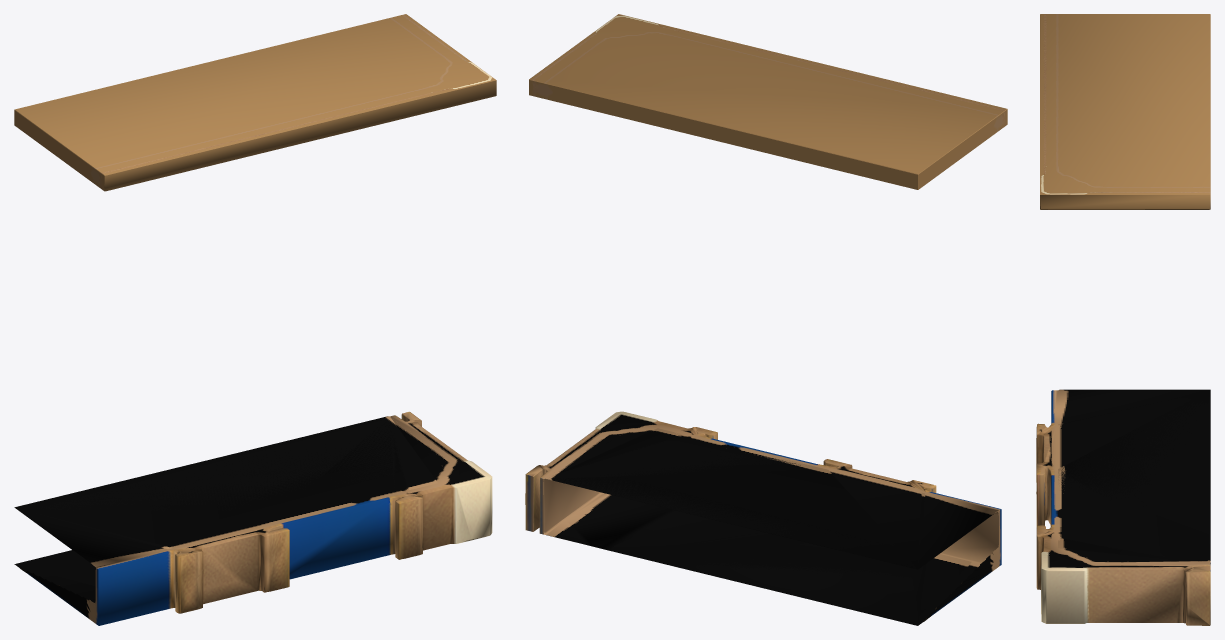
Rendered from 10-roof-front-right.fbx.
3 renders of one model, left to right at view 1: azimuth 30°, elevation 25°; view 2: azimuth 150°, elevation 25°; view 3: azimuth 270°, elevation 25°, orthographic. The views are drawn at different scales.
Visible parts, largest first — view 1: roof-front-right; view 2: roof-front-right; view 3: roof-front-right.
Boxes of the visible parts, <box> form: roof-front-right: <box>14,14,496,625</box>; roof-front-right: <box>525,14,1007,625</box>; roof-front-right: <box>1036,14,1210,625</box>.
Bounding box in the file's own units: 5112 × 5621 × 2063.
Materials: 1 (1 with a texture image).
